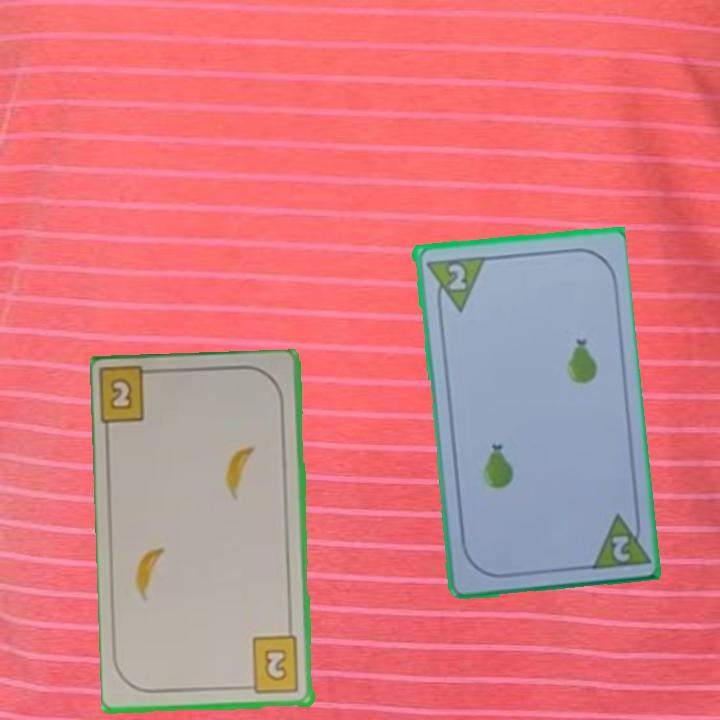2b: (98, 366, 164, 429), (241, 634, 302, 696)
2p: (421, 252, 486, 316), (608, 531, 632, 565)
